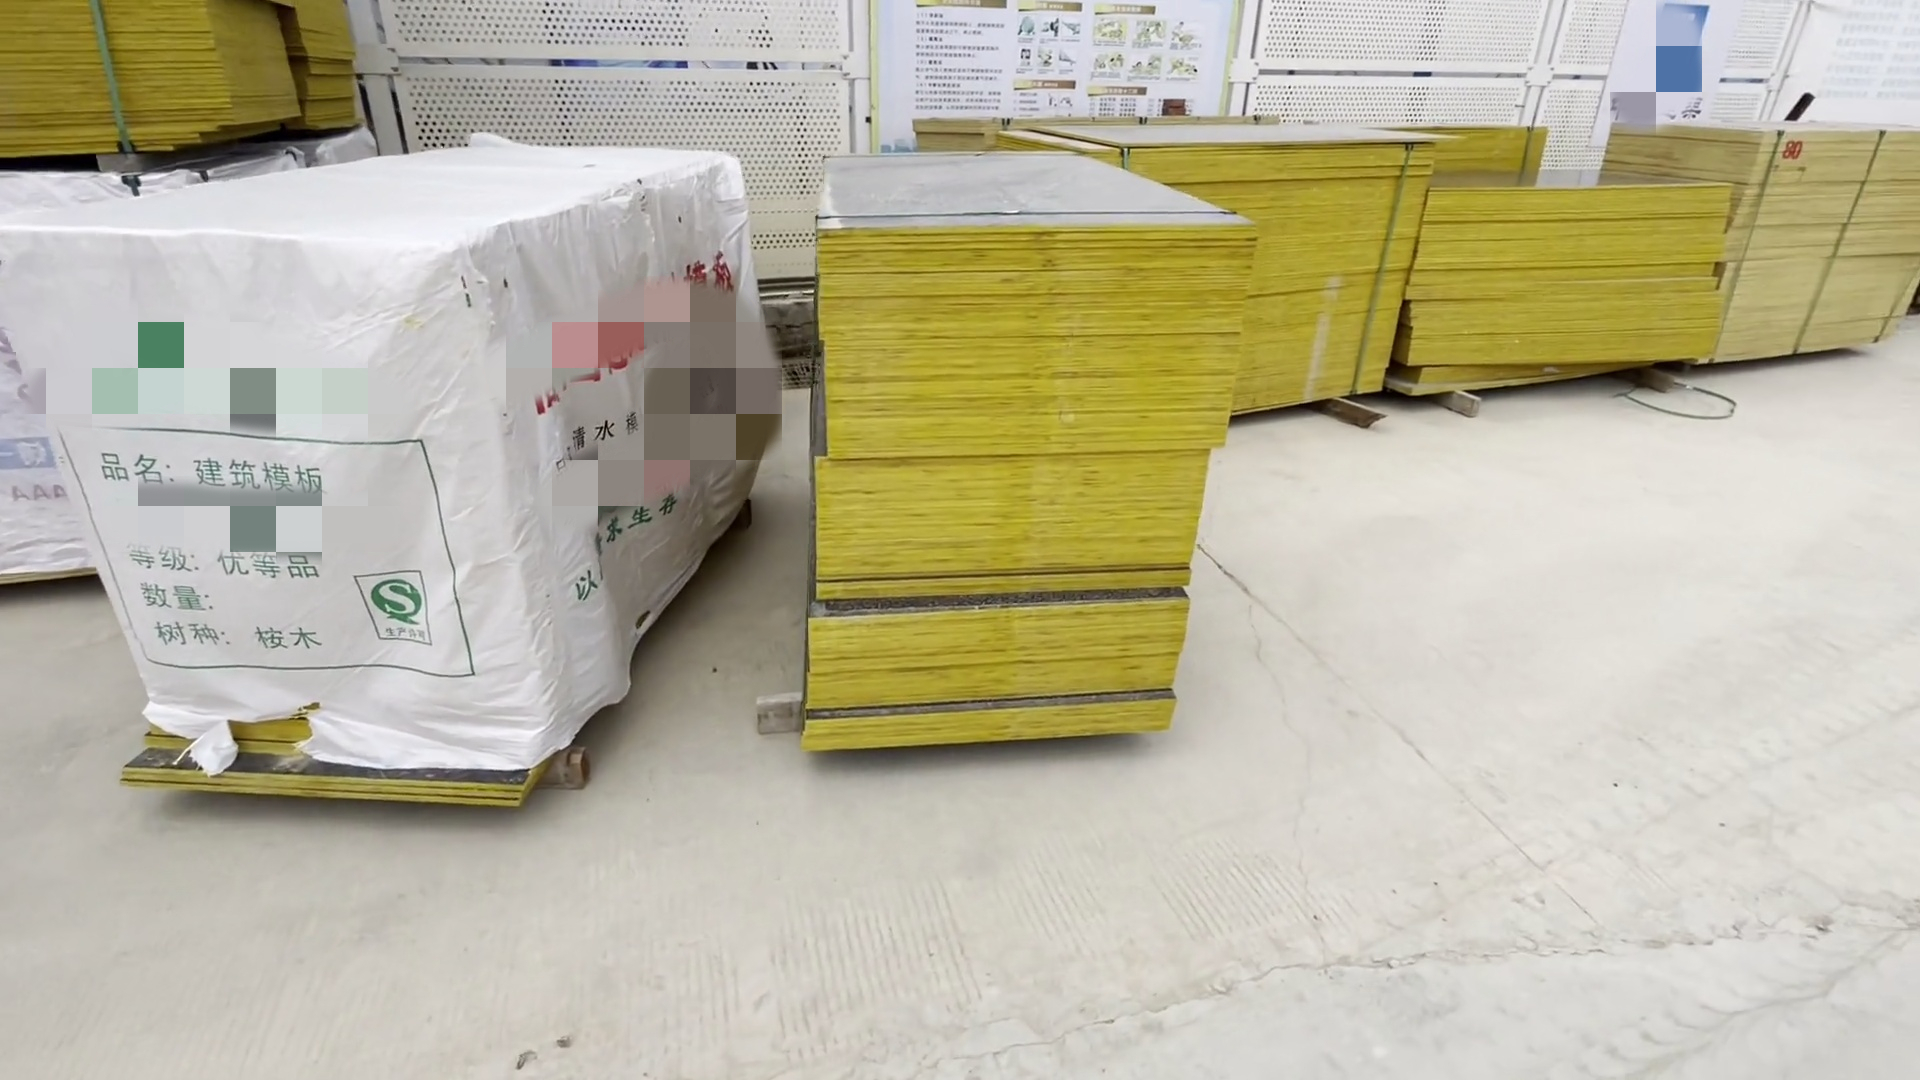board: (778, 153, 1288, 779), (1280, 133, 1920, 407)
